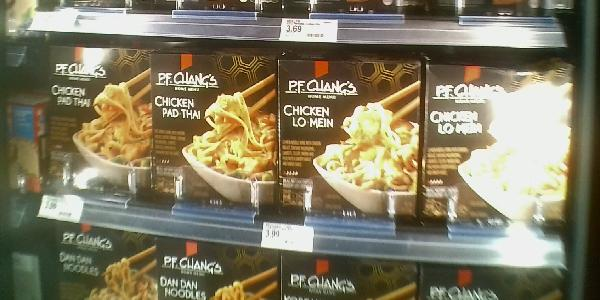pizza: (428, 64, 566, 228), (282, 60, 419, 217), (155, 52, 279, 214), (45, 45, 152, 196)
